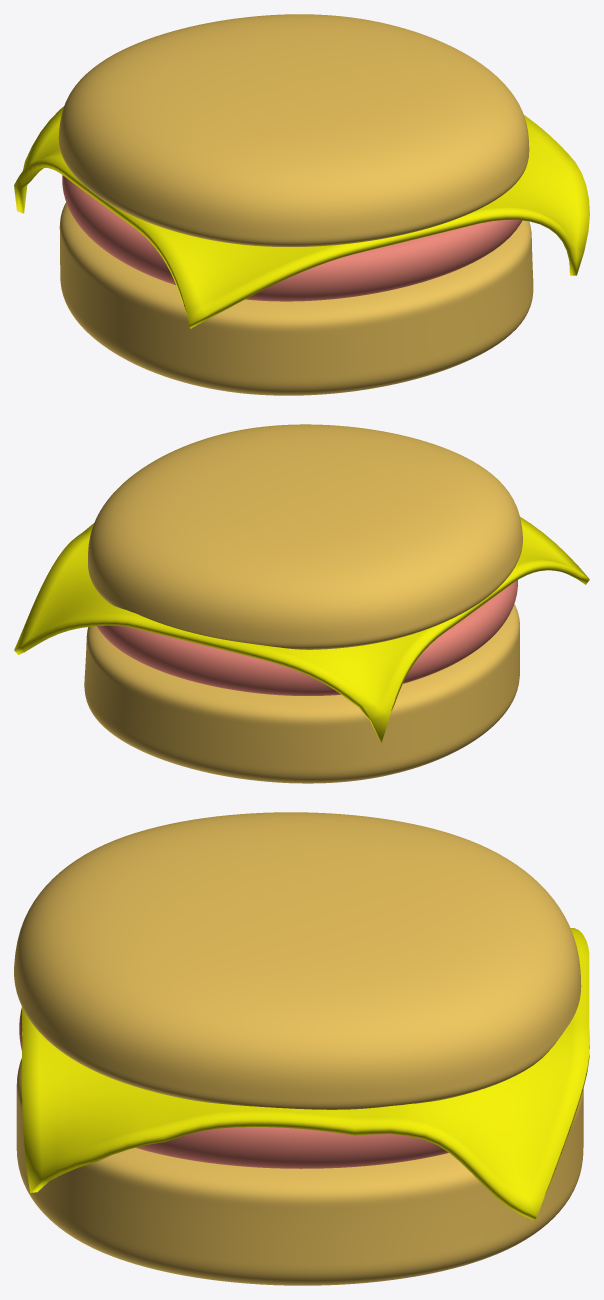
The model's file is burger.glb.
3 views of the same model, one above another, from view 1: azimuth 30°, elevation 25°; view 2: azimuth 150°, elevation 25°; view 3: azimuth 270°, elevation 25° (orthographic). The views are drawn at different scales.
Parts seen in each view (by area): view 1: Cube.002, Cube, Plane, Cube.001; view 2: Cube.002, Cube, Plane, Cube.001; view 3: Cube.002, Cube, Plane, Cube.001.
Part boxes in pixels (bbox=[...]): Cube.002: bbox=[58, 14, 529, 246]; Cube: bbox=[59, 202, 533, 395]; Plane: bbox=[14, 106, 589, 328]; Cube.001: bbox=[62, 175, 522, 301]; Cube.002: bbox=[88, 424, 522, 649]; Cube: bbox=[84, 604, 519, 783]; Plane: bbox=[14, 517, 589, 742]; Cube.001: bbox=[97, 580, 517, 695]; Cube.002: bbox=[14, 812, 581, 1109]; Cube: bbox=[16, 1058, 583, 1285]; Plane: bbox=[22, 928, 589, 1220]; Cube.001: bbox=[19, 1007, 448, 1168].
Bounding box in the file's own units: 2.97 × 1.63 × 2.86.
